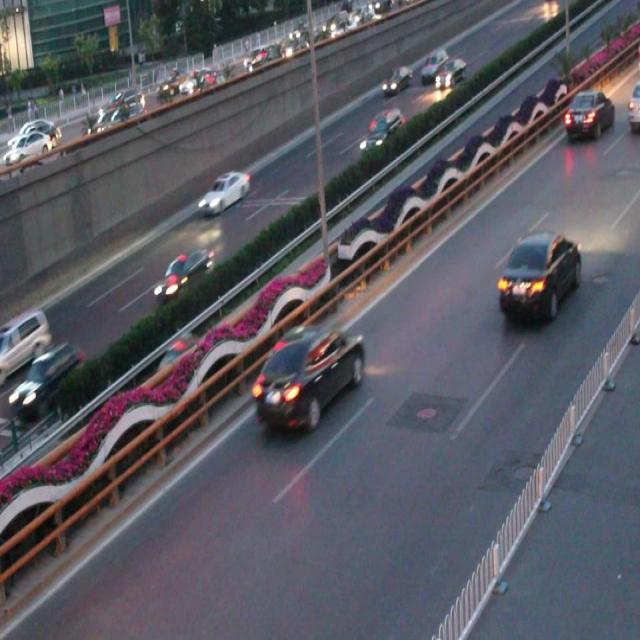car: (255, 321, 365, 430), (497, 232, 582, 314), (12, 339, 85, 422), (152, 245, 216, 301), (198, 168, 250, 214), (358, 105, 404, 157), (380, 62, 411, 96), (434, 56, 464, 90), (421, 48, 448, 81)
truck: (1, 310, 51, 380)
